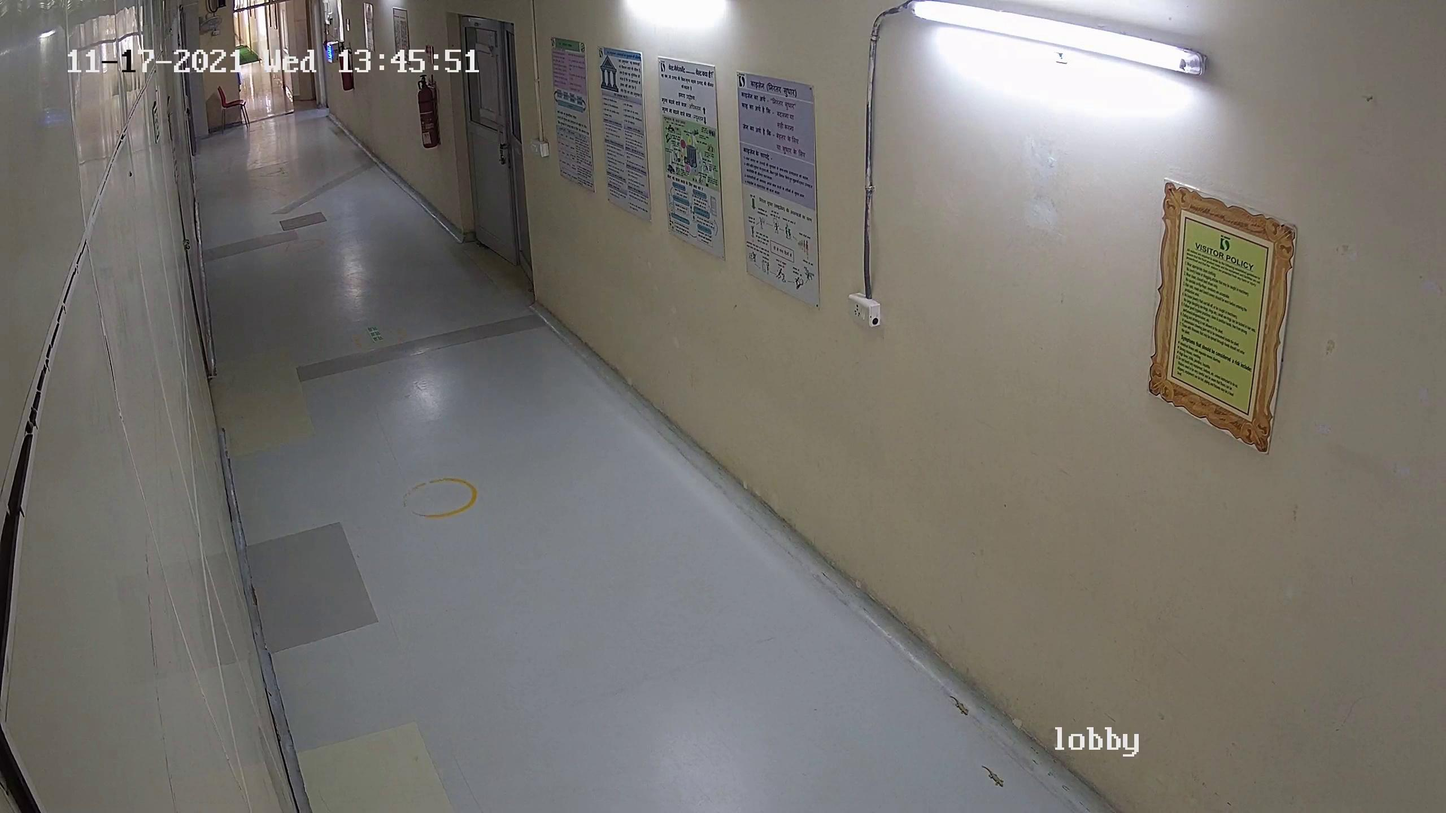lizard: (930, 678, 980, 721), (968, 753, 1009, 794)
